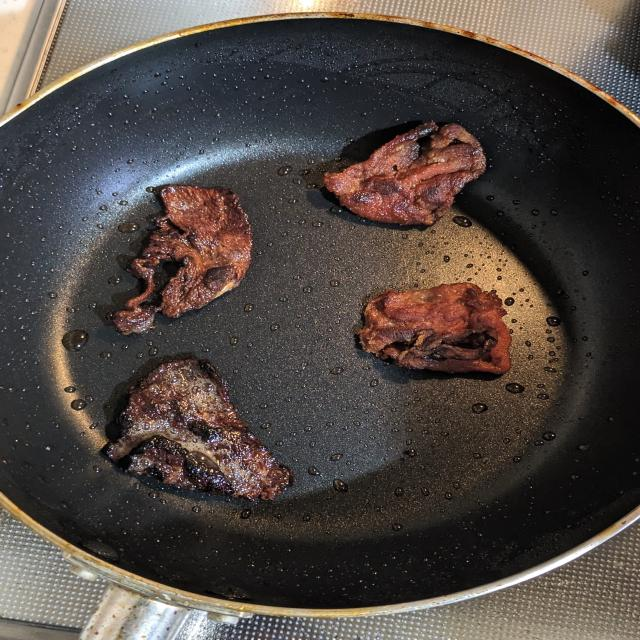overcooked beef,: (100, 351, 300, 510), (105, 179, 254, 348)
overcooked pork: (304, 115, 509, 234), (347, 277, 519, 380)
